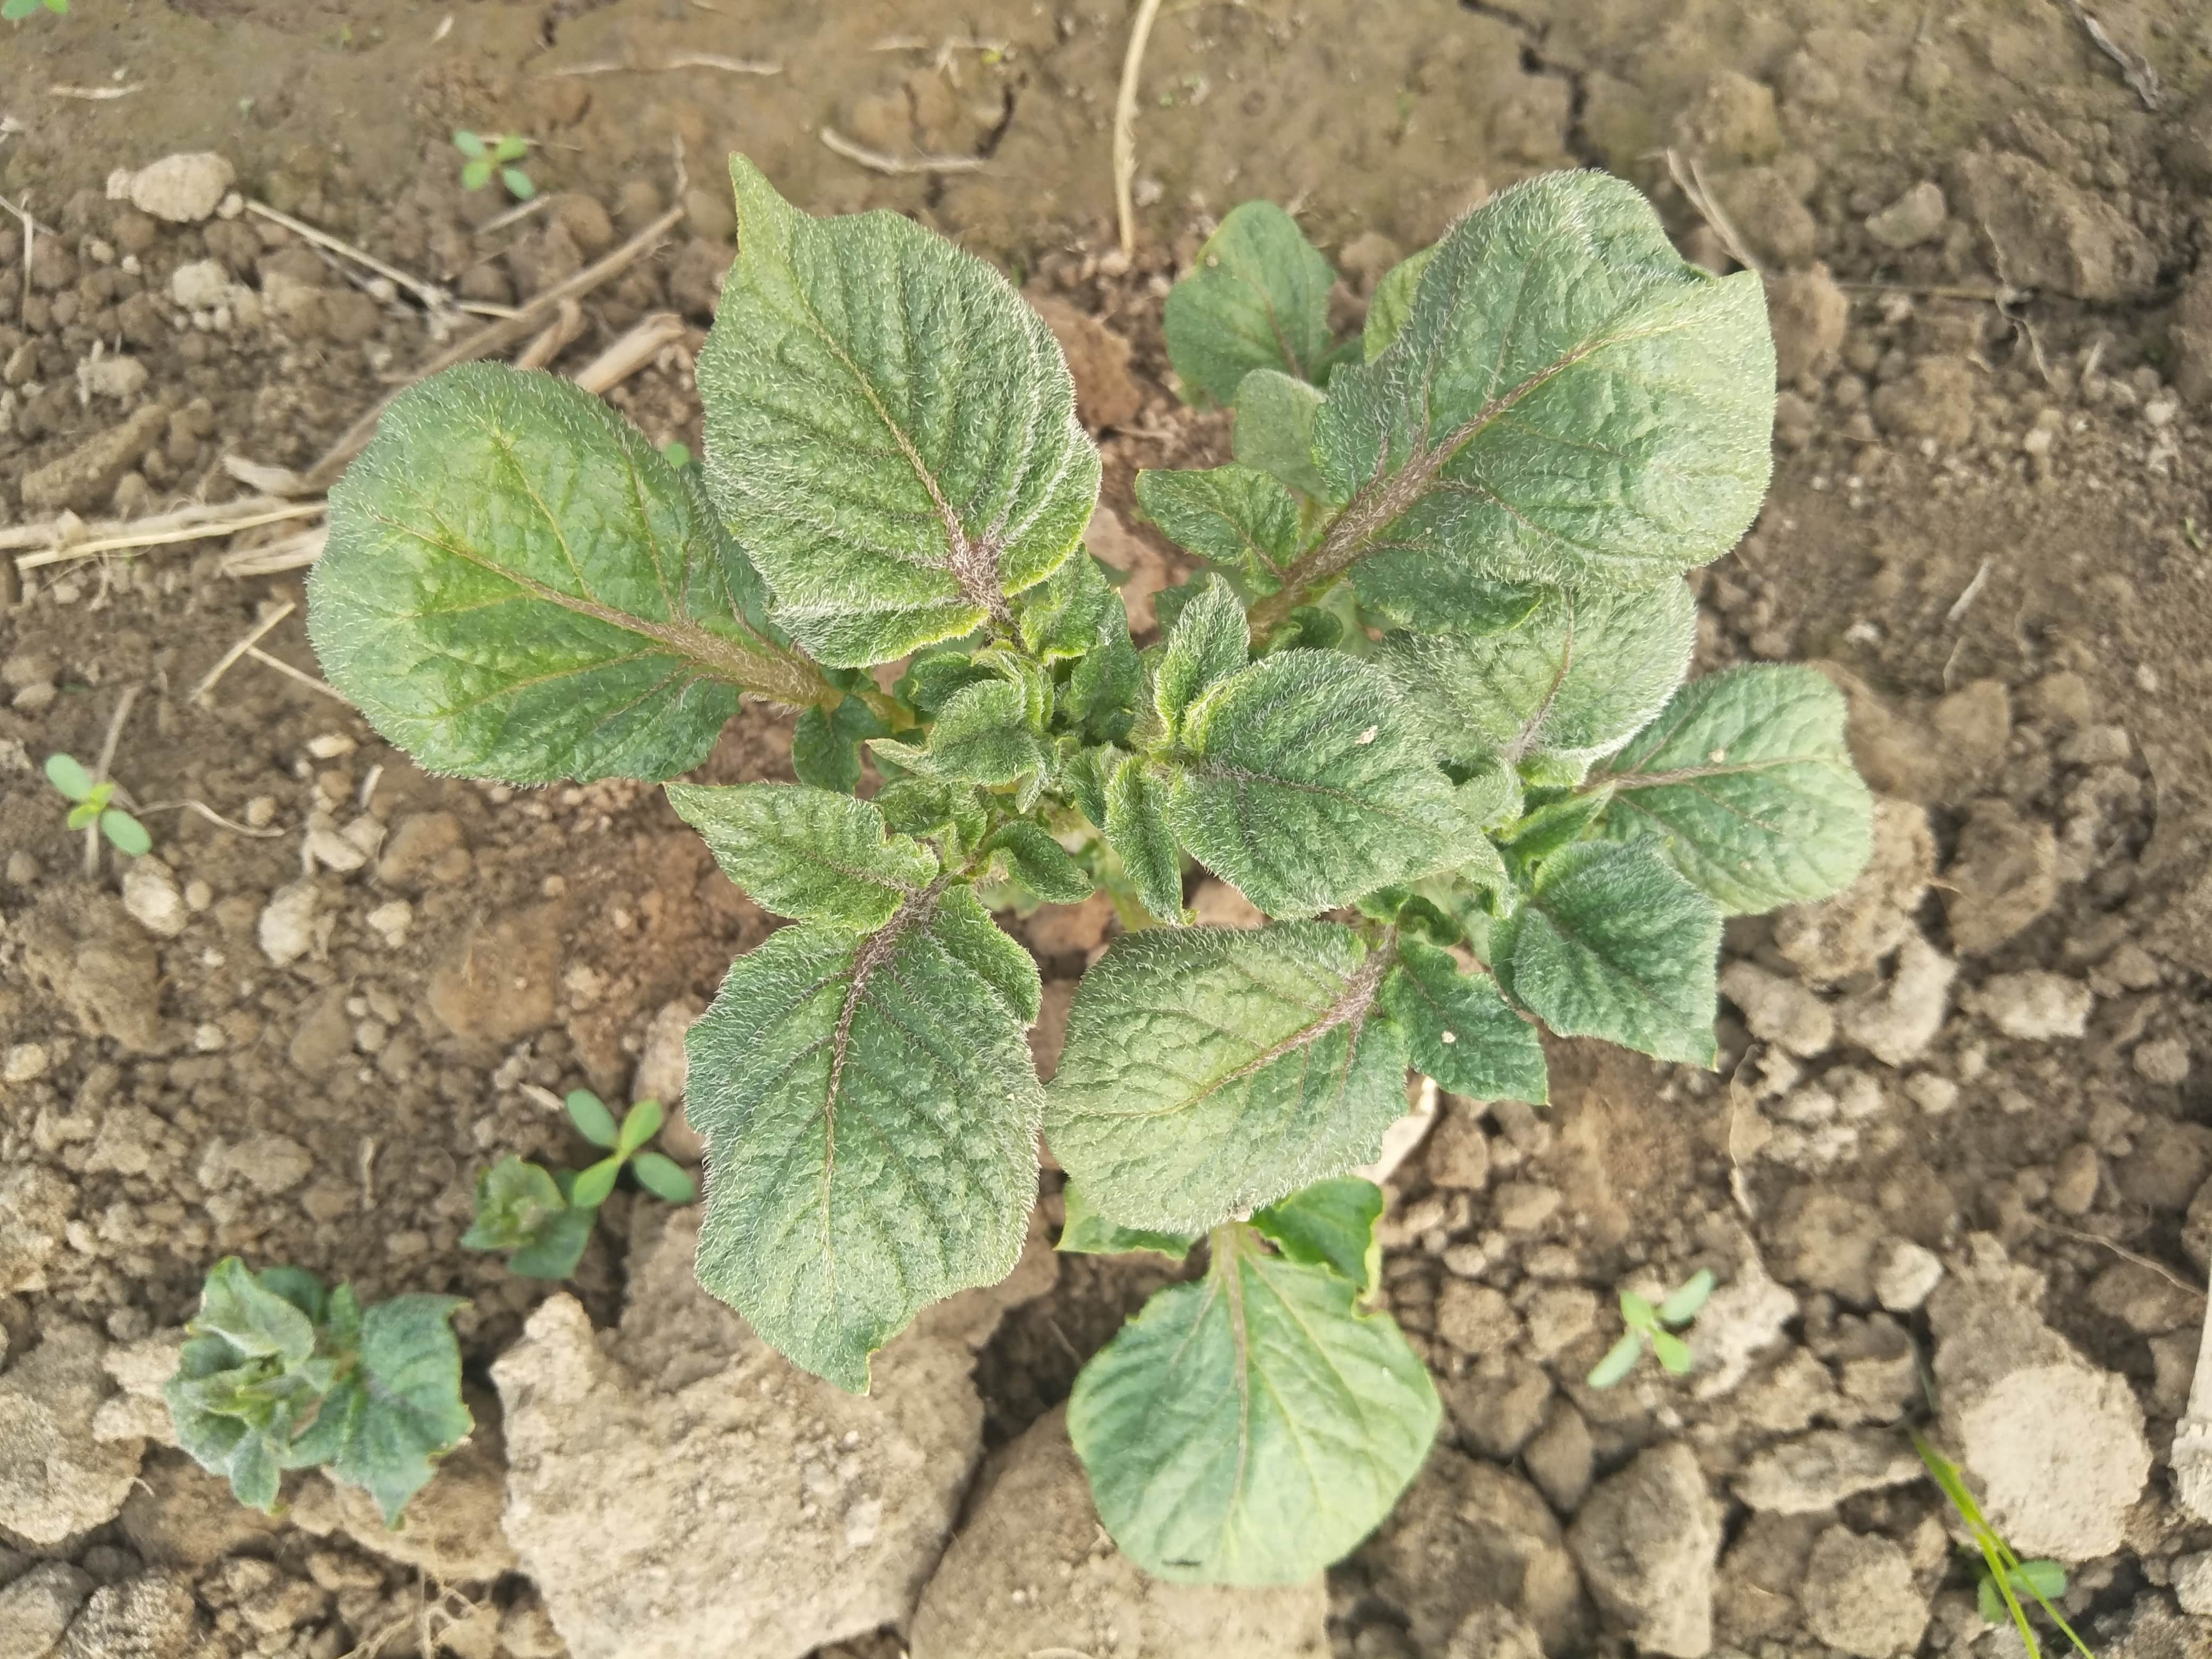daun: (700, 159, 1106, 650), (1320, 173, 1777, 594), (307, 383, 745, 786), (693, 906, 1028, 1352), (1080, 1243, 1423, 1570), (1054, 936, 1400, 1227), (1176, 650, 1507, 896), (1404, 563, 1677, 777), (1625, 671, 1860, 899), (1529, 843, 1721, 1061), (671, 796, 951, 925), (1153, 204, 1334, 399), (1378, 941, 1552, 1110), (1143, 457, 1312, 568), (1158, 575, 1249, 751), (869, 690, 1036, 781), (1103, 763, 1191, 922), (981, 833, 1092, 906)
